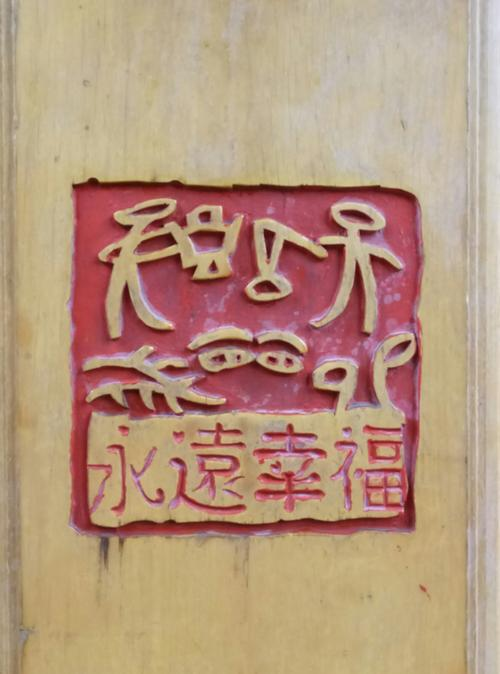chinese: (77, 417, 408, 515)
naxi: (95, 197, 402, 337), (77, 336, 421, 415)
